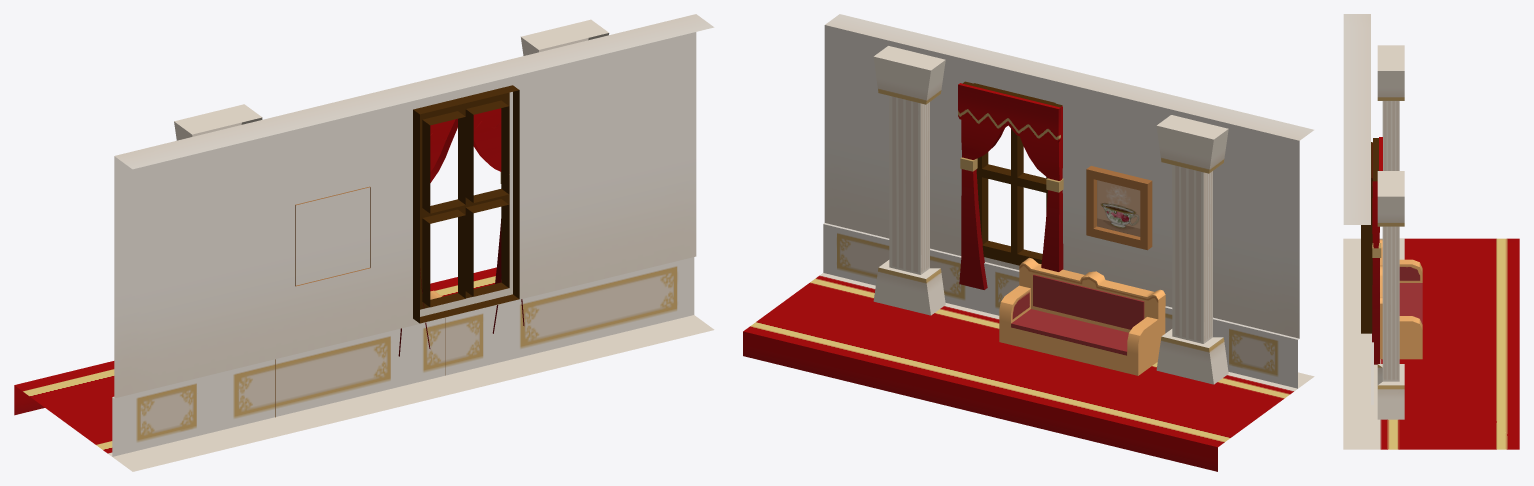
The model's file is wall_couch.fbx.
3 views of the same model, side by side, from view 1: azimuth 30°, elevation 25°; view 2: azimuth 150°, elevation 25°; view 3: azimuth 270°, elevation 25° (orthographic). The views are drawn at different scales.
Parts seen in each view (by area): view 1: wall_base2, window; view 2: wall_base2, window, couch1, paint1; view 3: wall_base2, window, couch1.
Part boxes in pixels (x1=…): wall_base2: x1=14, y1=14, x2=714, y2=471; window: x1=398, y1=85, x2=524, y2=356; wall_base2: x1=743, y1=14, x2=1314, y2=471; window: x1=958, y1=81, x2=1063, y2=289; couch1: x1=999, y1=257, x2=1165, y2=375; paint1: x1=1086, y1=166, x2=1152, y2=250; wall_base2: x1=1343, y1=14, x2=1519, y2=449; window: x1=1361, y1=137, x2=1382, y2=364; couch1: x1=1379, y1=239, x2=1422, y2=359.
Bounding box in the file's own units: 1007 × 550 × 356.
